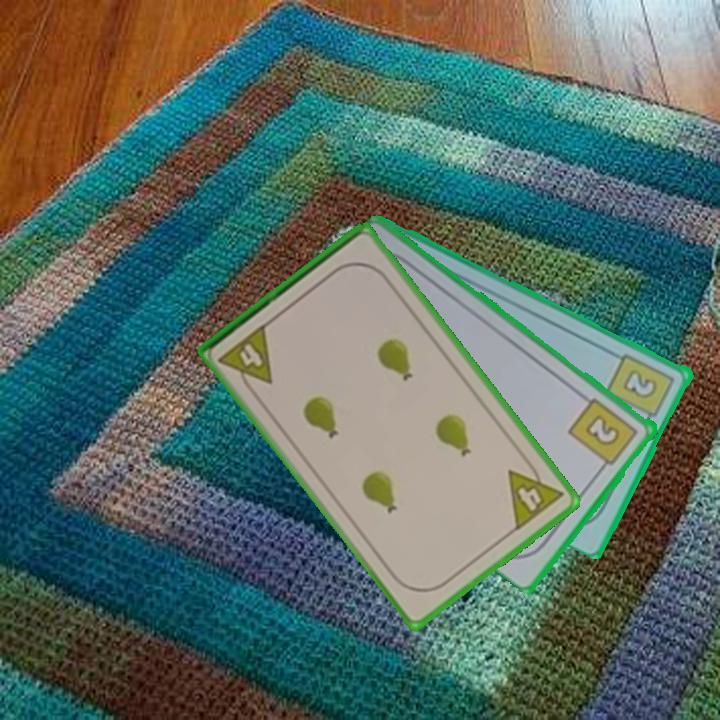2b: (565, 394, 642, 474), (603, 349, 678, 428)
4p: (504, 454, 567, 534), (215, 320, 276, 398)
